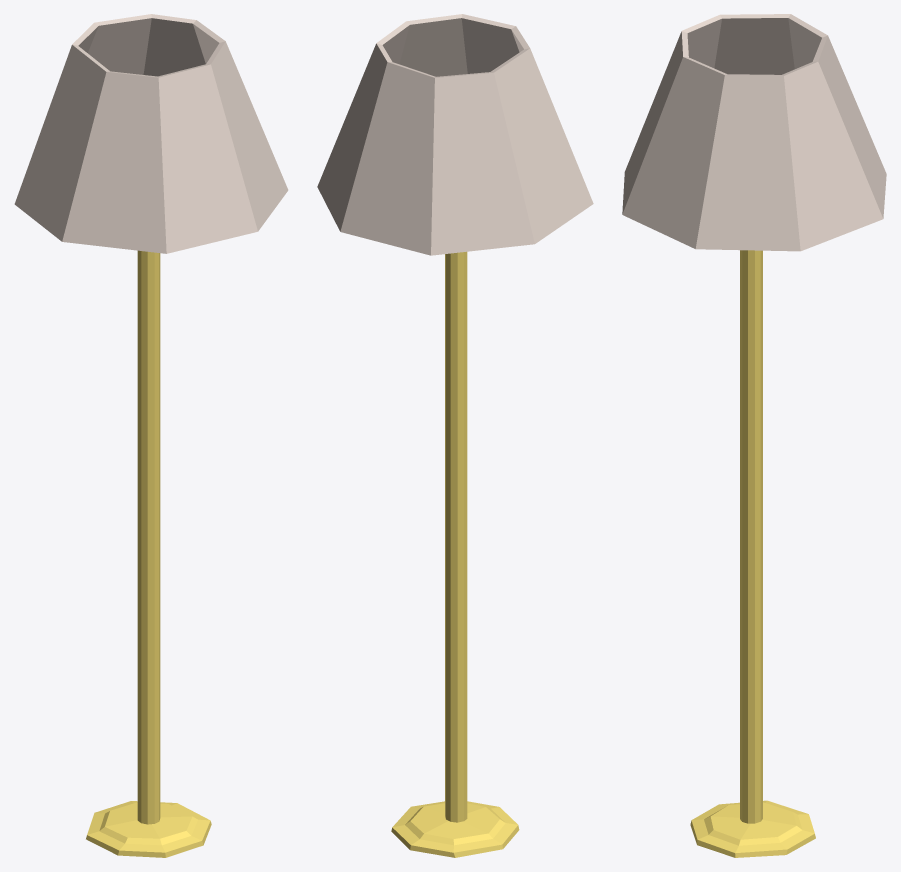
File: Lamp_2.fbx
3 views of the same model, side by side, from view 1: azimuth 30°, elevation 25°; view 2: azimuth 150°, elevation 25°; view 3: azimuth 270°, elevation 25° (orthographic).
Parts seen in each view (by area): view 1: Lamp_2; view 2: Lamp_2; view 3: Lamp_2.
Part boxes in pixels (x1=…): Lamp_2: x1=14, y1=14, x2=288, y2=857; Lamp_2: x1=317, y1=14, x2=593, y2=857; Lamp_2: x1=622, y1=14, x2=886, y2=857.
Size of the model in its own units: 85.23 by 85.71 by 282.
